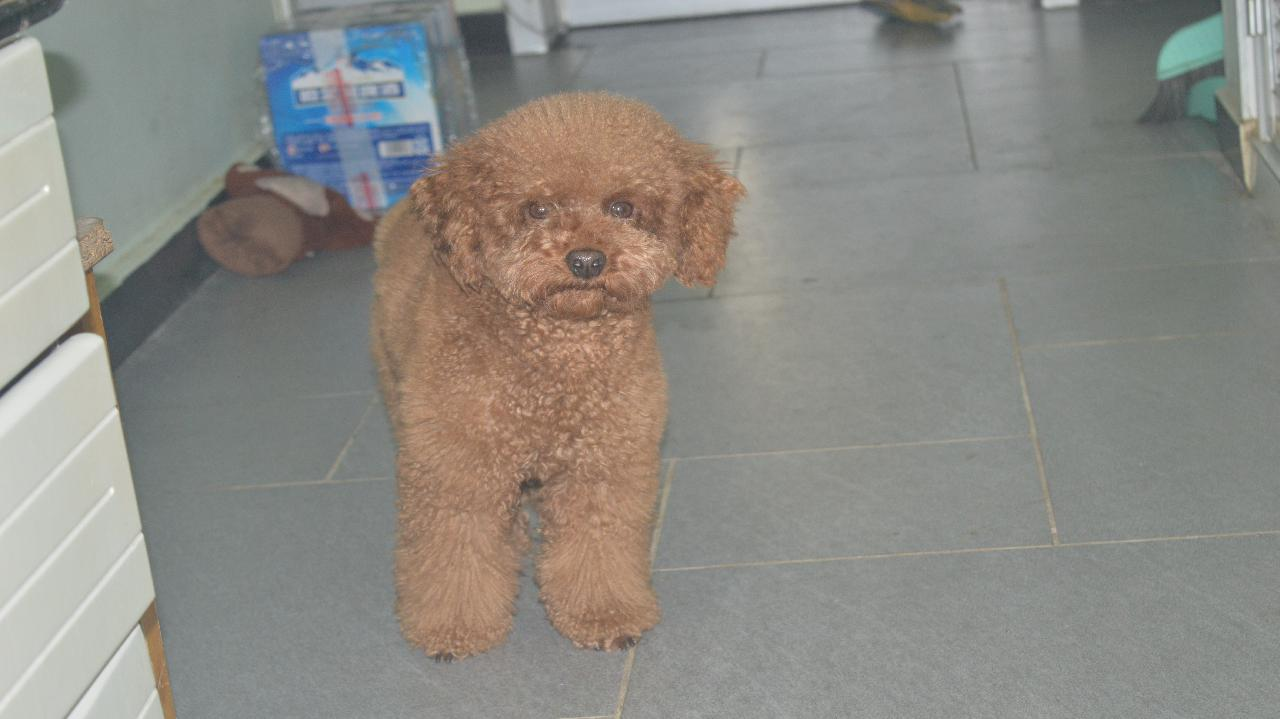zhuangzhuang: (359, 95, 736, 658)
